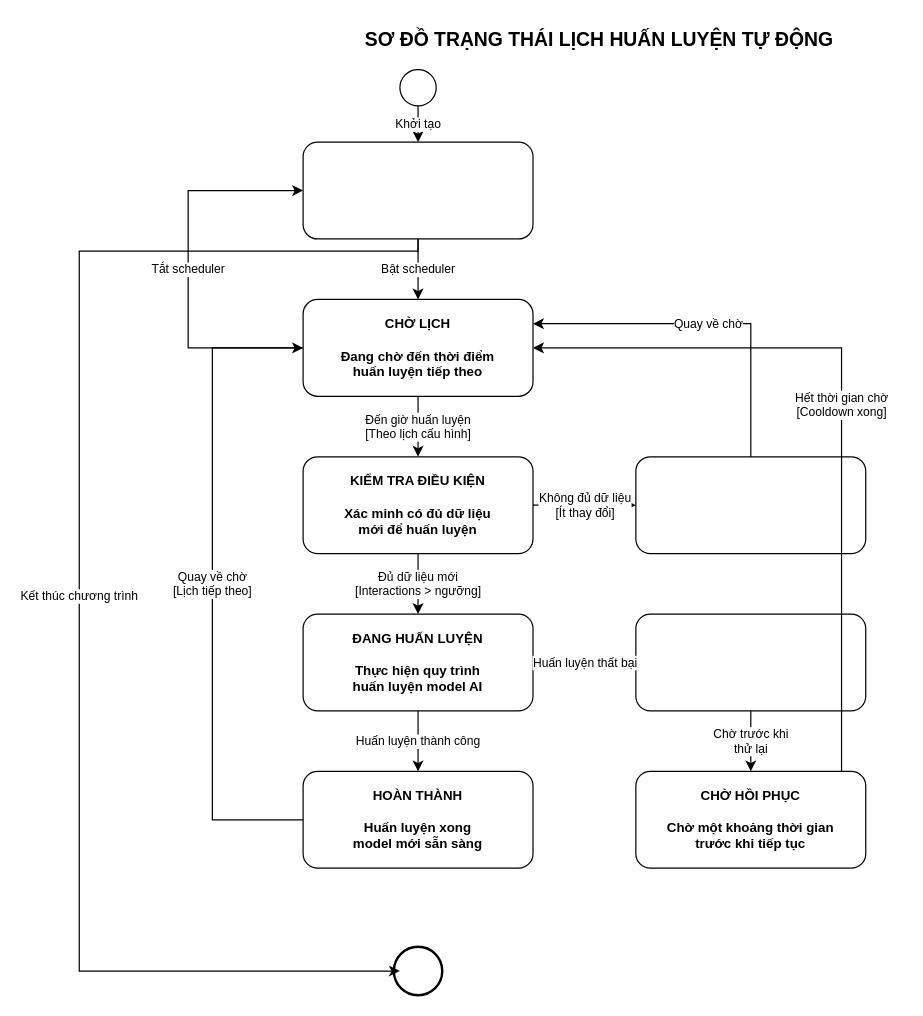
Some shapes in this 923 by 1016 pixel diagram are drawn without their labels. The box of each missing label's shape, as (x1, y1, x2, y2) in pixels:
BỎ QUA Không đủ dữ liệu mới bỏ qua lần huấn luyện này: (635, 456, 866, 554)
THẤT BẠI Huấn luyện gặp lỗi ghi log và báo cáo: (635, 613, 866, 711)
ĐÃ DỪNG Scheduler chưa được khởi động hoặc đã tắt: (302, 141, 533, 239)
